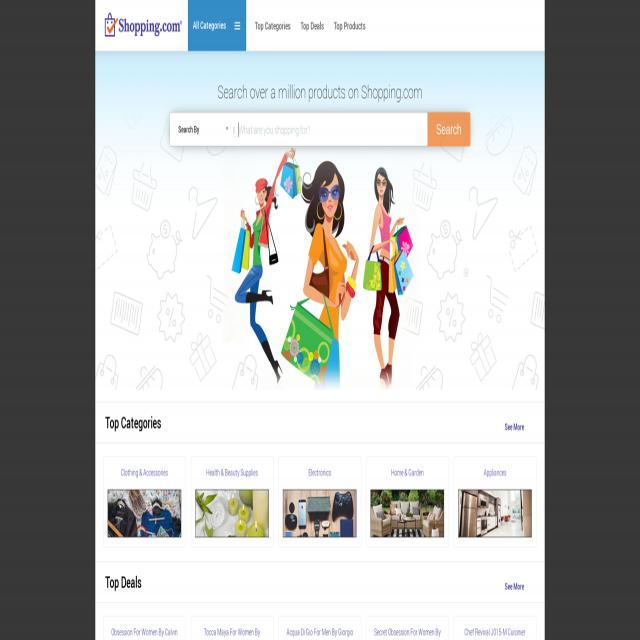button: (195, 490, 269, 537), (283, 490, 357, 537), (370, 490, 444, 537), (458, 490, 532, 537), (108, 490, 181, 537), (187, 0, 246, 51), (170, 112, 233, 146), (102, 616, 185, 640), (453, 616, 536, 640), (366, 616, 448, 640), (278, 616, 359, 640), (190, 619, 272, 640), (251, 8, 294, 42), (428, 112, 470, 146), (332, 12, 370, 44), (298, 10, 330, 40)
field: (234, 112, 428, 146)
